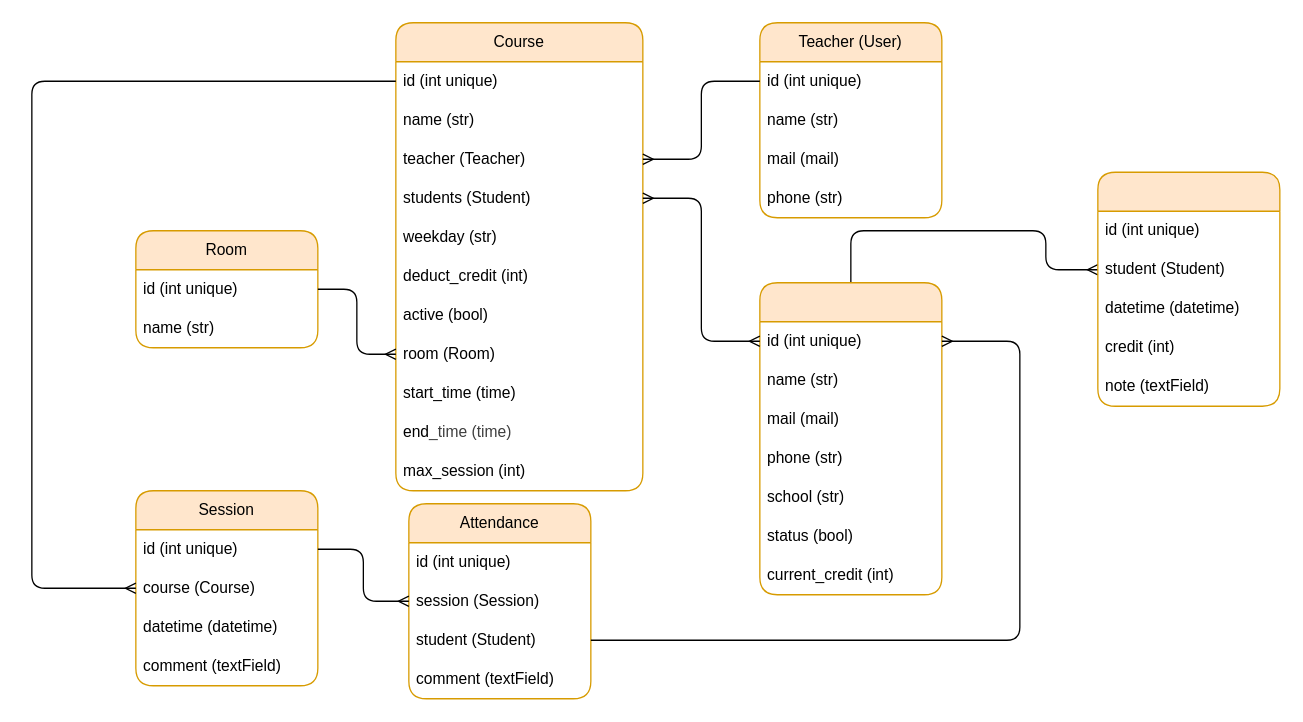
Some shapes in this 1303 by 722 pixel diagram are drawn without their labels. The shapes that lost their labels are listed below. From the top down, each one's box as (x1, y1, x2, y2) in pixels, then its label:
(1097, 171, 1280, 406): CreditTransaction
(759, 281, 942, 595): Student
